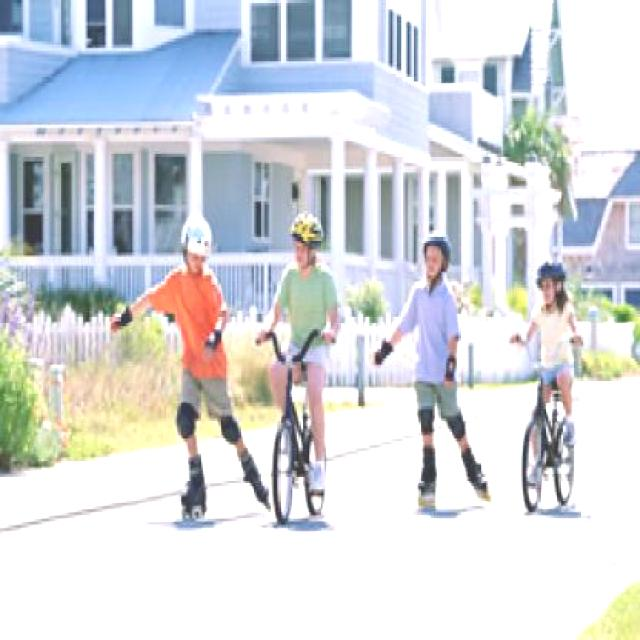With Helmet: (279, 204, 333, 278), (528, 240, 577, 317), (171, 202, 215, 276), (418, 231, 451, 286)
